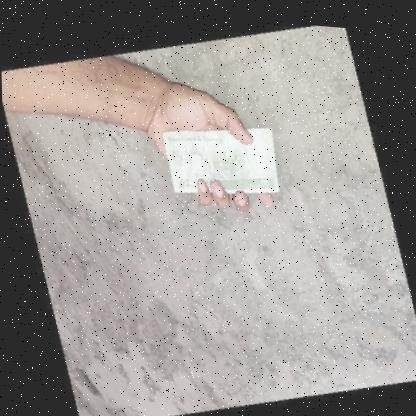fifty-back-vef: (160, 116, 279, 194)
